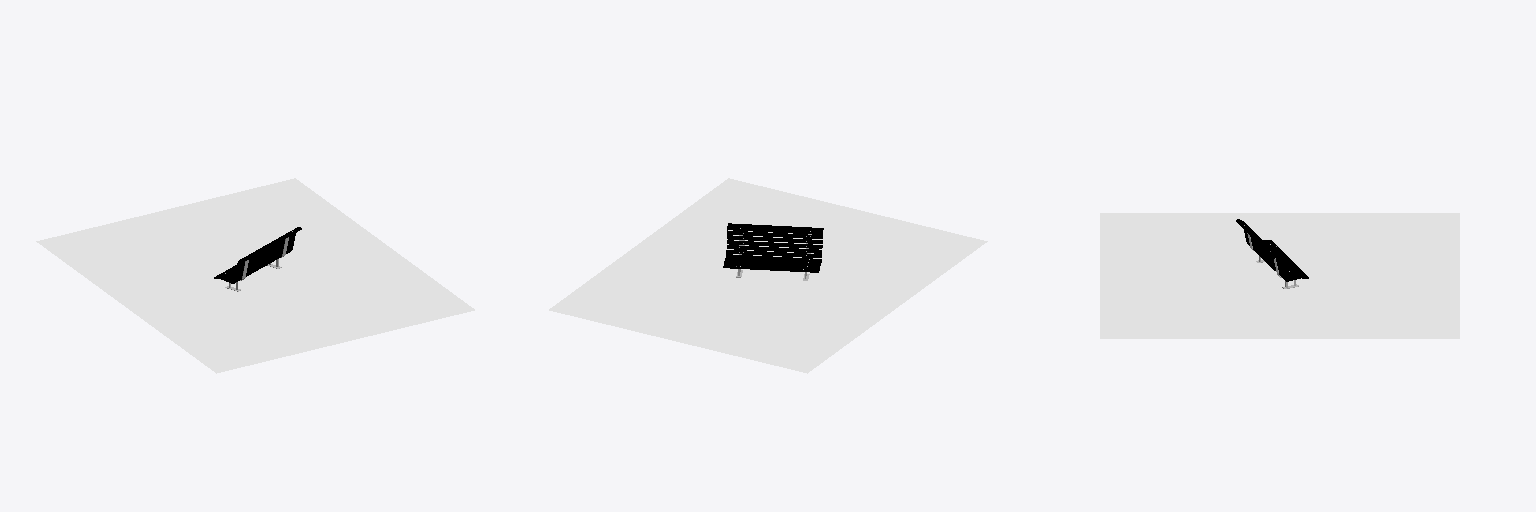
The model's file is Wood_Bench.obj.
The picture shows the model from 3 angles: view 1: azimuth 30°, elevation 25°; view 2: azimuth 150°, elevation 25°; view 3: azimuth 270°, elevation 25°; orthographic projection.
Visible parts, largest first — view 1: Floor, Wood_Bench2; view 2: Floor, Wood_Bench2; view 3: Floor, Wood_Bench2.
Part boxes in pixels (x1,y1,x2,y2): Floor: (36, 178, 474, 373); Wood_Bench2: (214, 227, 301, 291); Floor: (549, 178, 987, 373); Wood_Bench2: (723, 223, 823, 280); Floor: (1100, 213, 1459, 338); Wood_Bench2: (1236, 219, 1308, 288).
Size of the model in its own units: 51.9 by 7.7 by 62.52.